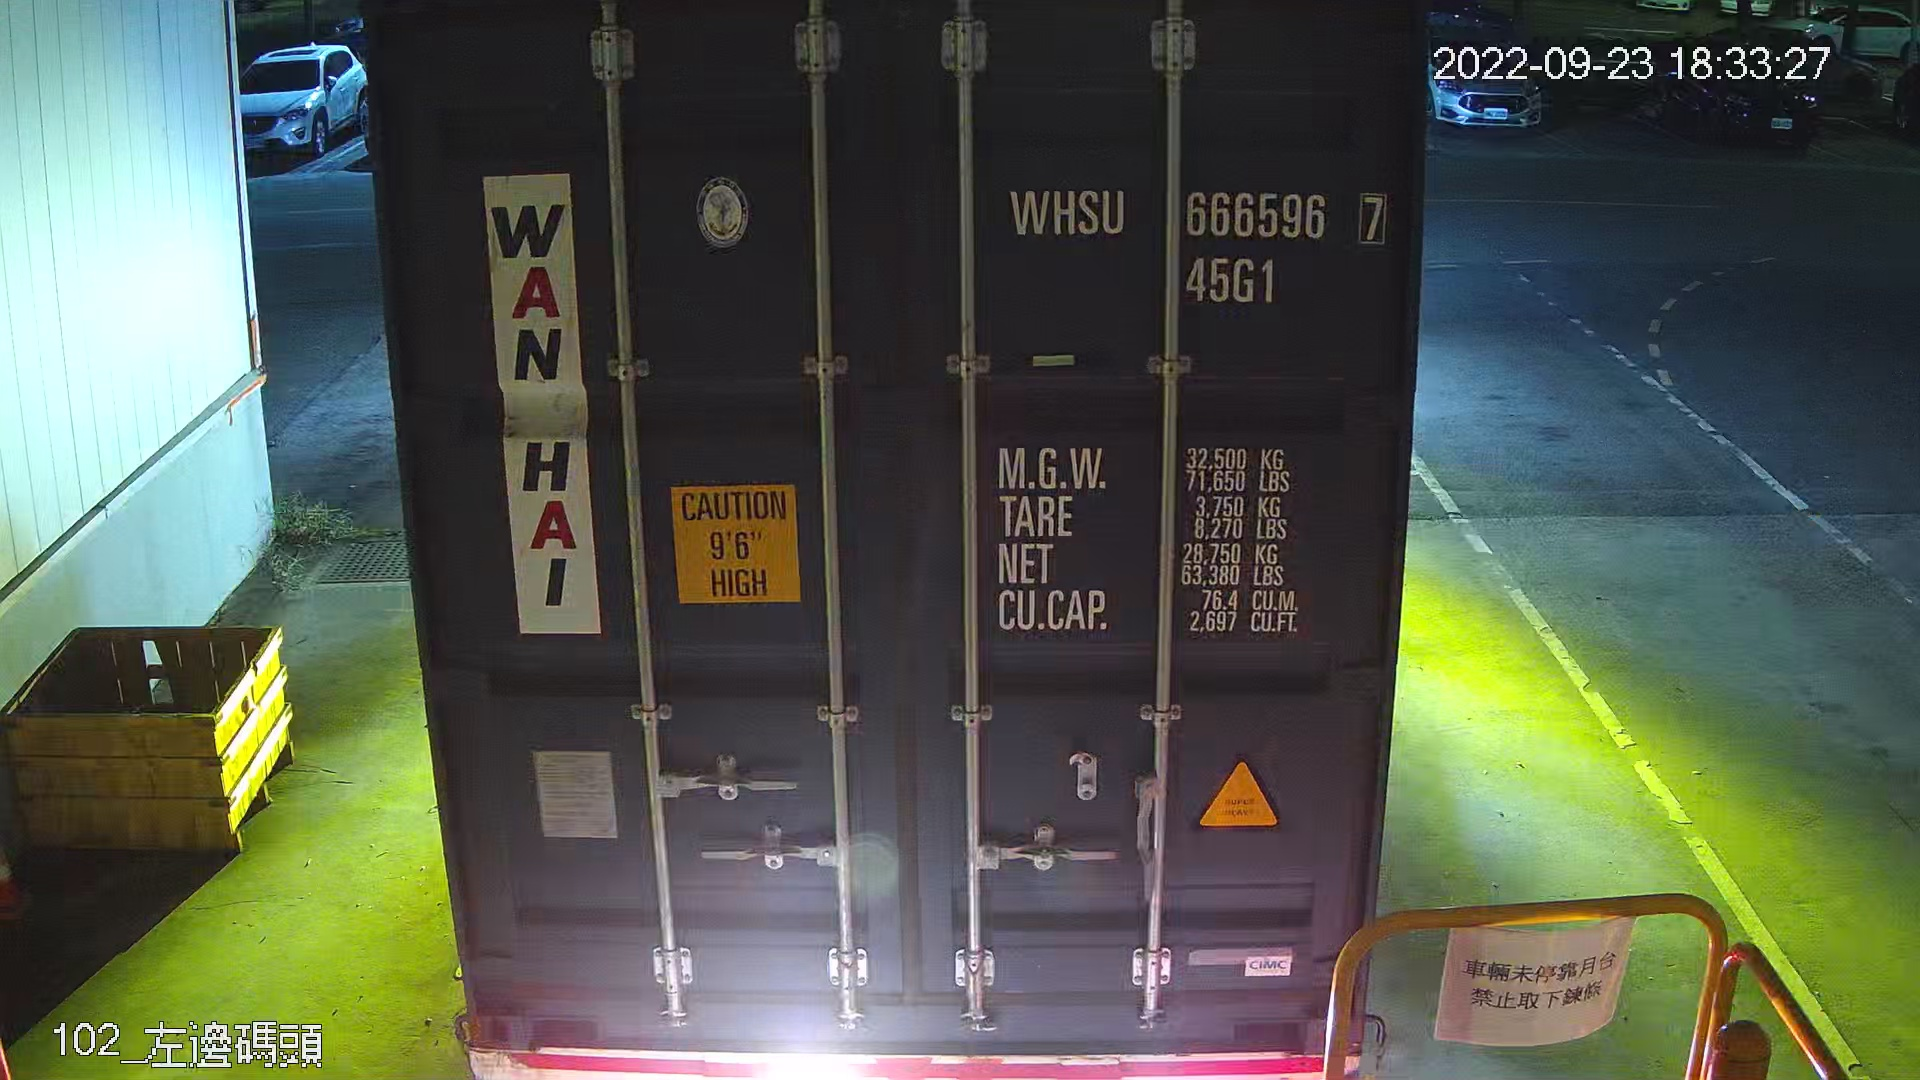container: (994, 164, 1400, 313)
